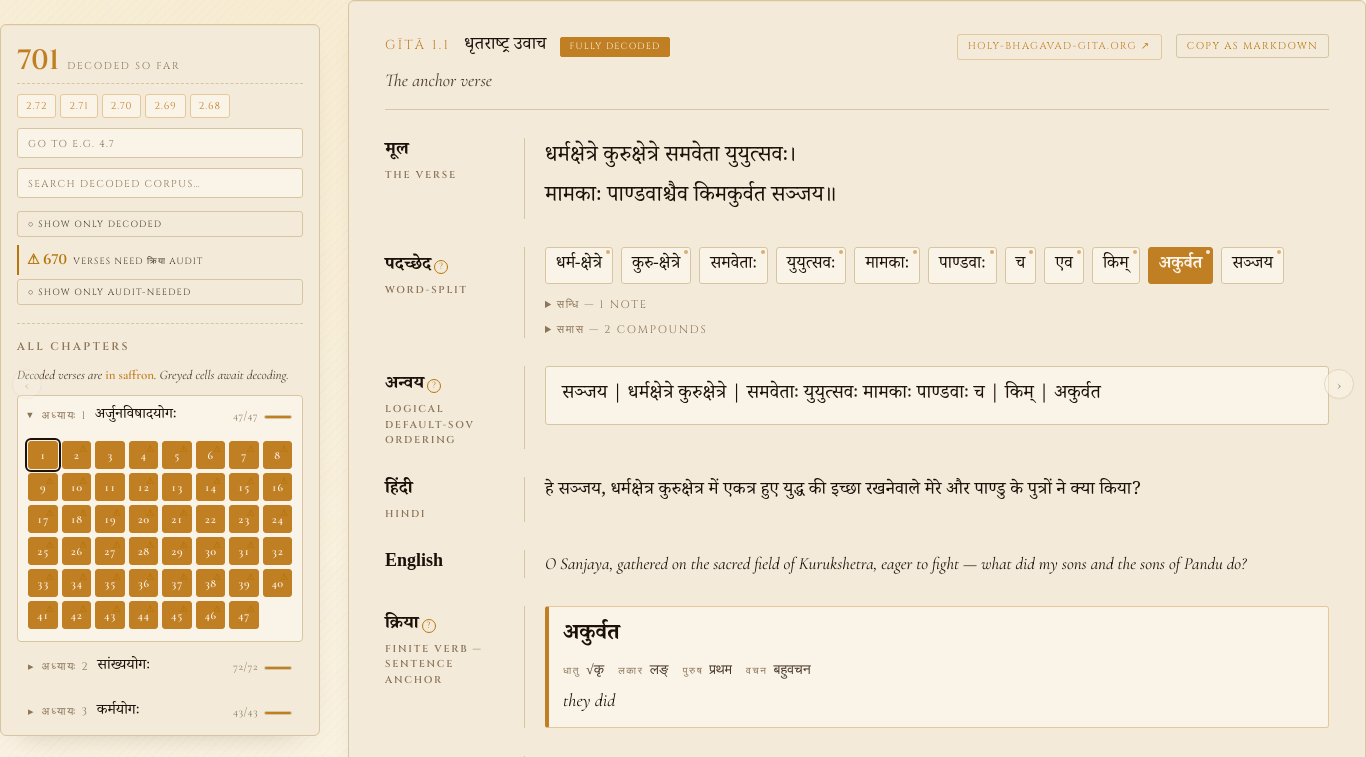
VerseJourney — search › typing a search term shows results in the rail
The width and height of the screenshot is (1366, 757).
Search a common decoded word — "Krishna" likely appears in translations.
Type "Krishna" into the search field with class "rail-search".
click(160, 183); type("Krishna")  # box 17,168 -> 303,198
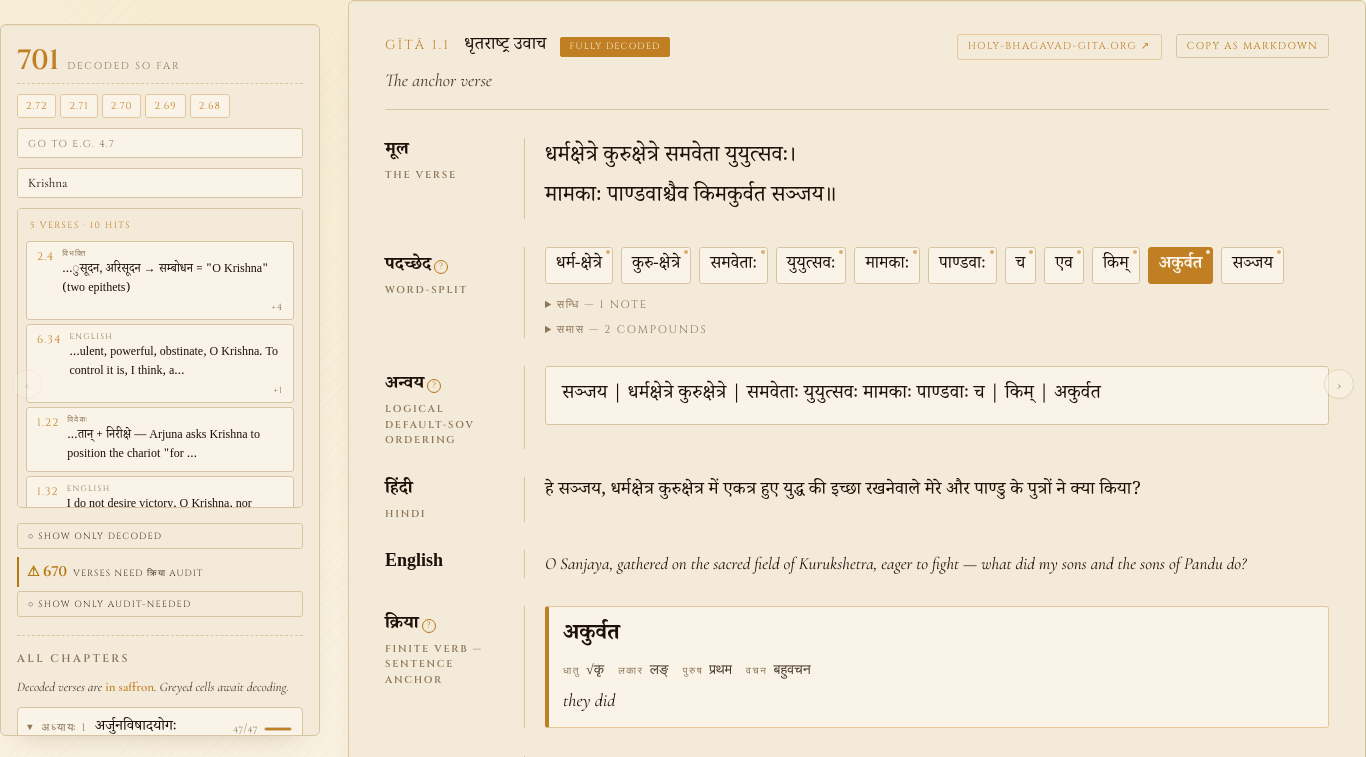
Check: the element with class "rail-search-results" is shown, box 17,208 -> 303,508
